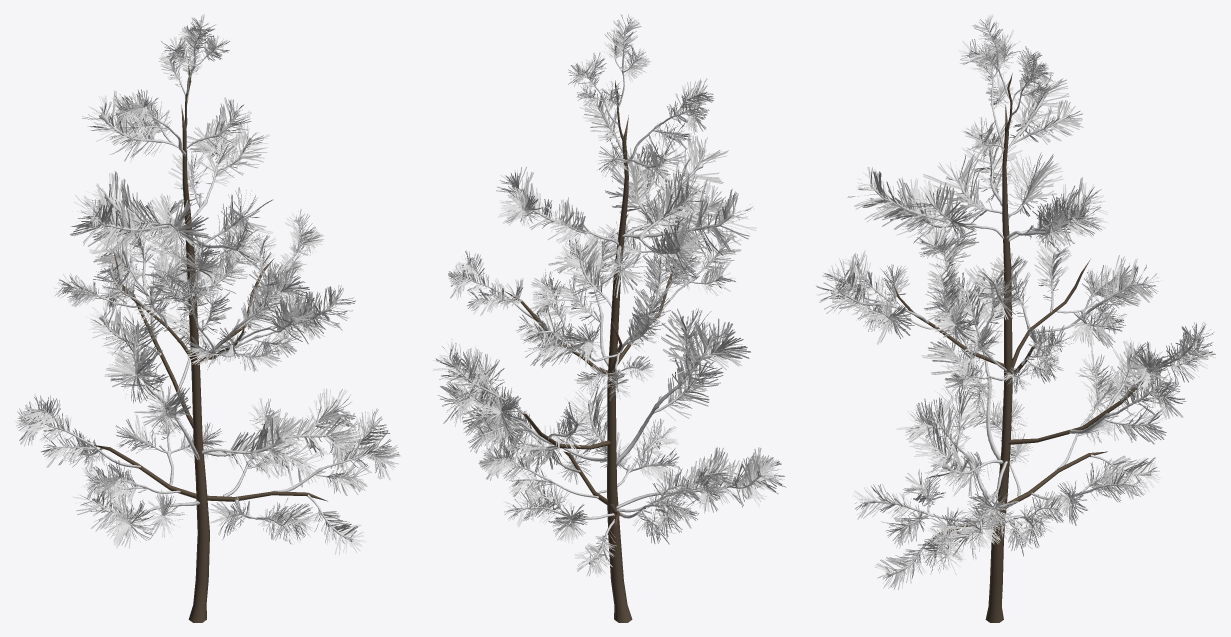
File: SM_Sapling_3.fbx
3 renders of one model, left to right at view 1: azimuth 30°, elevation 25°; view 2: azimuth 150°, elevation 25°; view 3: azimuth 270°, elevation 25°, orthographic.
Visible parts, largest first — view 1: SM_Sapling_3; view 2: SM_Sapling_3; view 3: SM_Sapling_3.
Boxes of the visible parts, x1,y1,x2,y2 form: SM_Sapling_3: (15,14,400,622); SM_Sapling_3: (432,14,786,622); SM_Sapling_3: (816,14,1216,622).
Size of the model in its own units: 51.28 by 58 by 96.13.
